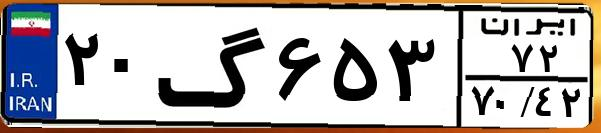0: (110, 28, 156, 98), (495, 70, 520, 125)
2: (57, 26, 110, 100), (560, 70, 590, 125), (537, 27, 568, 80)
3: (385, 28, 445, 110)
4: (535, 70, 560, 125)
5: (330, 28, 385, 110)
6: (270, 28, 330, 110)
7: (508, 27, 537, 80), (470, 70, 495, 125)
گ: (156, 12, 270, 120)
